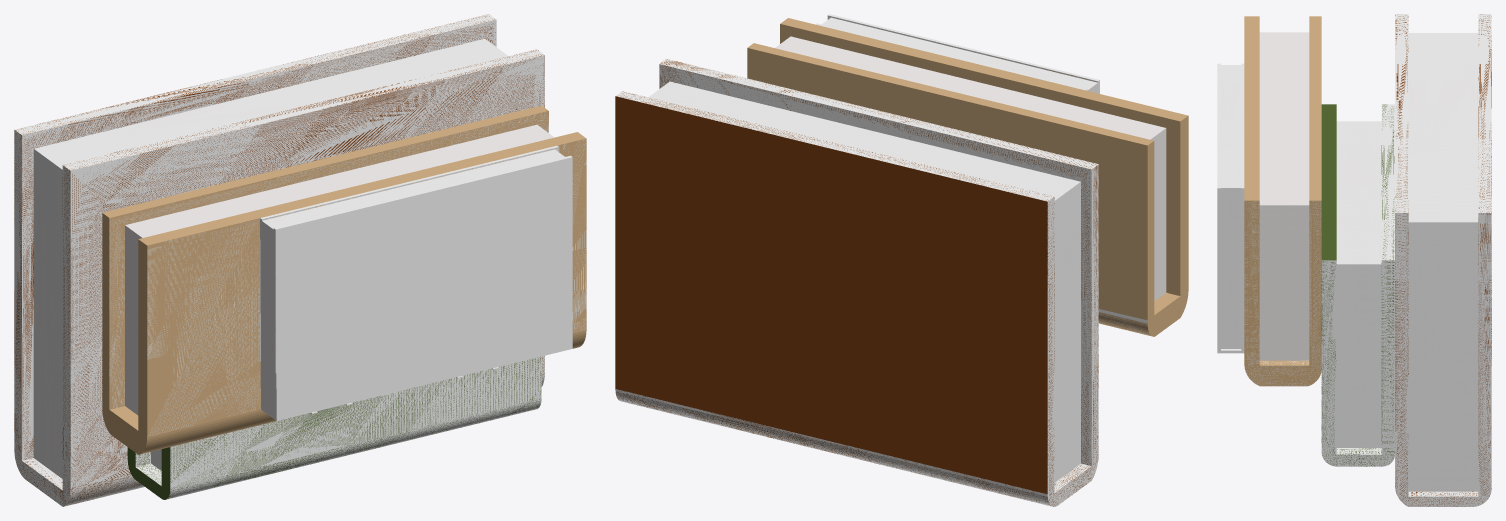
3 views of the same model, side by side, from view 1: azimuth 30°, elevation 25°; view 2: azimuth 150°, elevation 25°; view 3: azimuth 270°, elevation 25° (orthographic). The views are drawn at different scales.
Parts seen in each view (by area): view 1: books livres b uuml cher; view 2: books livres b uuml cher; view 3: books livres b uuml cher.
Part boxes in pixels (x1,y1,x2,y2): books livres b uuml cher: [14, 14, 586, 506]; books livres b uuml cher: [615, 14, 1188, 506]; books livres b uuml cher: [1217, 14, 1491, 506].
Size of the model in its own units: 49.14 by 33.4 by 27.95.
